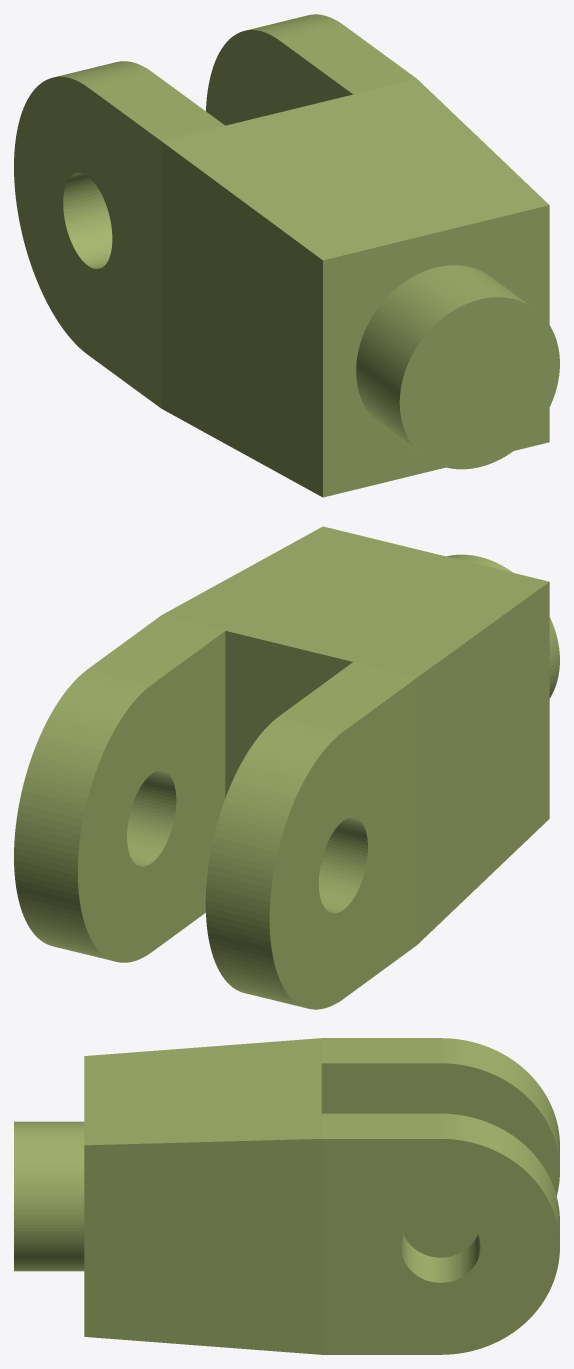
The picture shows the model from 3 angles, top to bottom: view 1: azimuth 30°, elevation 25°; view 2: azimuth 150°, elevation 25°; view 3: azimuth 270°, elevation 25°; orthographic projection. The views are drawn at different scales.
Parts seen in each view (by area): view 1: node; view 2: node; view 3: node.
Boxes of the visible parts, <box> form: node: <box>14,14,559,497</box>; node: <box>14,526,559,1009</box>; node: <box>14,1038,559,1354</box>.
Size of the model in its own units: 0.0754 by 0.0754 by 0.1726.
